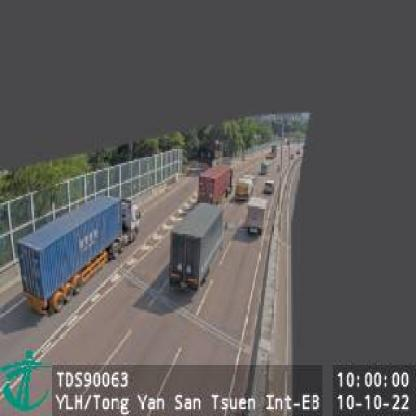Car: (262, 180, 273, 195), (260, 162, 268, 173)
Truck: (16, 193, 139, 318), (168, 204, 224, 290), (198, 164, 233, 204), (246, 196, 266, 235), (234, 173, 256, 202)
